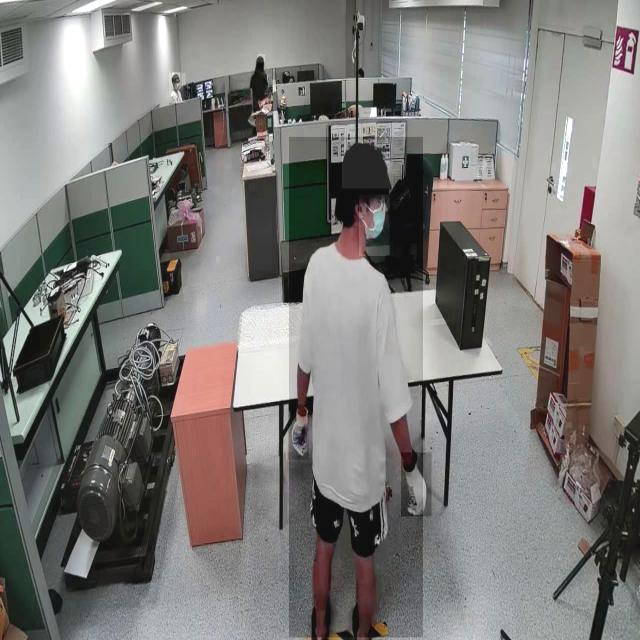face_mask: (359, 195, 389, 256)
hand_glove: (401, 452, 432, 518), (288, 404, 309, 460)
head_nohelmet: (342, 140, 390, 190), (257, 54, 265, 63), (172, 72, 180, 79)
person: (289, 137, 423, 638), (168, 73, 186, 104)
